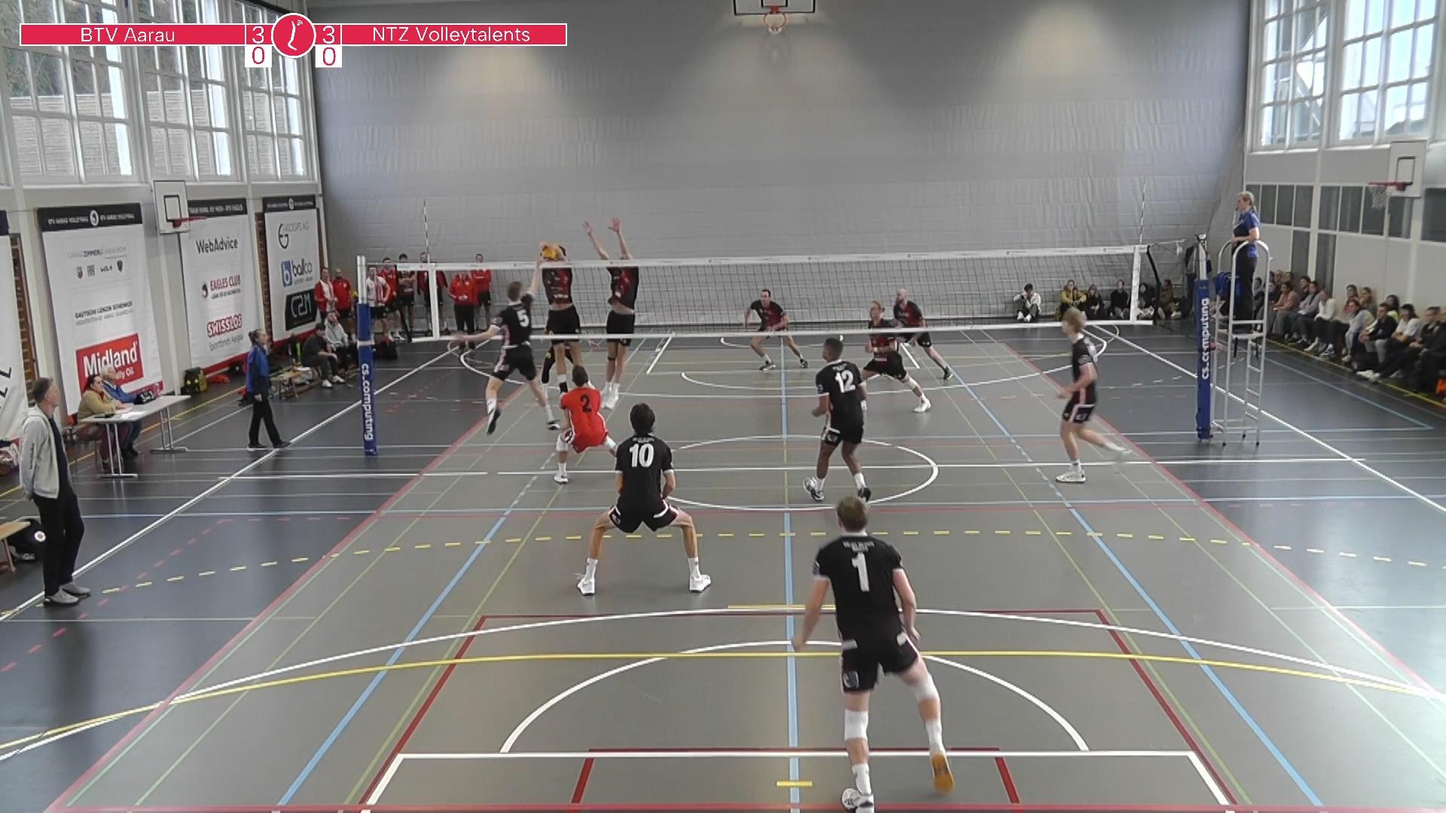Attack: (452, 253, 563, 435)
Block: (582, 211, 643, 418), (531, 231, 587, 404)
Player: (792, 497, 953, 812), (577, 403, 710, 595), (1056, 308, 1127, 483), (804, 336, 871, 501), (863, 301, 931, 413), (553, 365, 616, 484), (893, 289, 953, 379), (743, 288, 807, 370), (541, 344, 579, 383)
ball: (538, 242, 558, 261)
